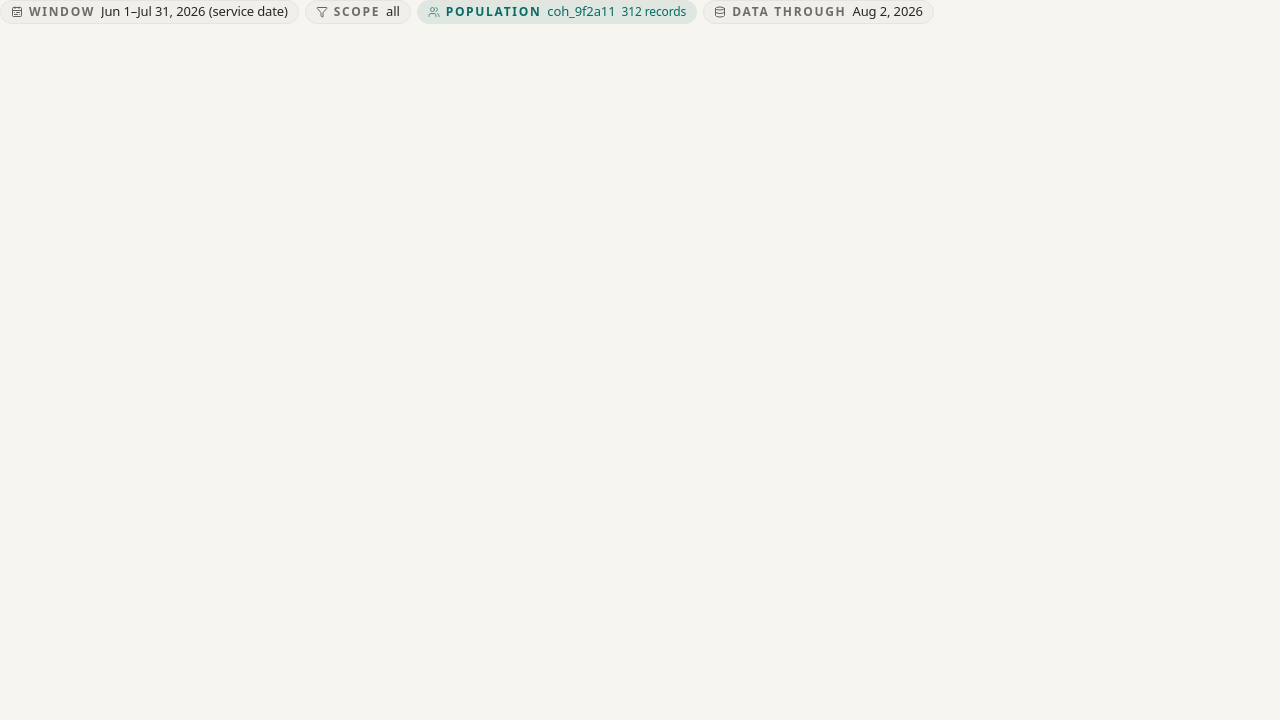
Scenario: ContextHeader — the cohort chip › says what it has when only the header's id and size were published
Check: the text "coh_9f2a11" is shown, box [547,2,615,22]
Check: the text "312 records" is shown, box [621,3,686,21]
Click the button "Population coh_9f2a11 312 records" at (557, 12), box [417,0,697,24]
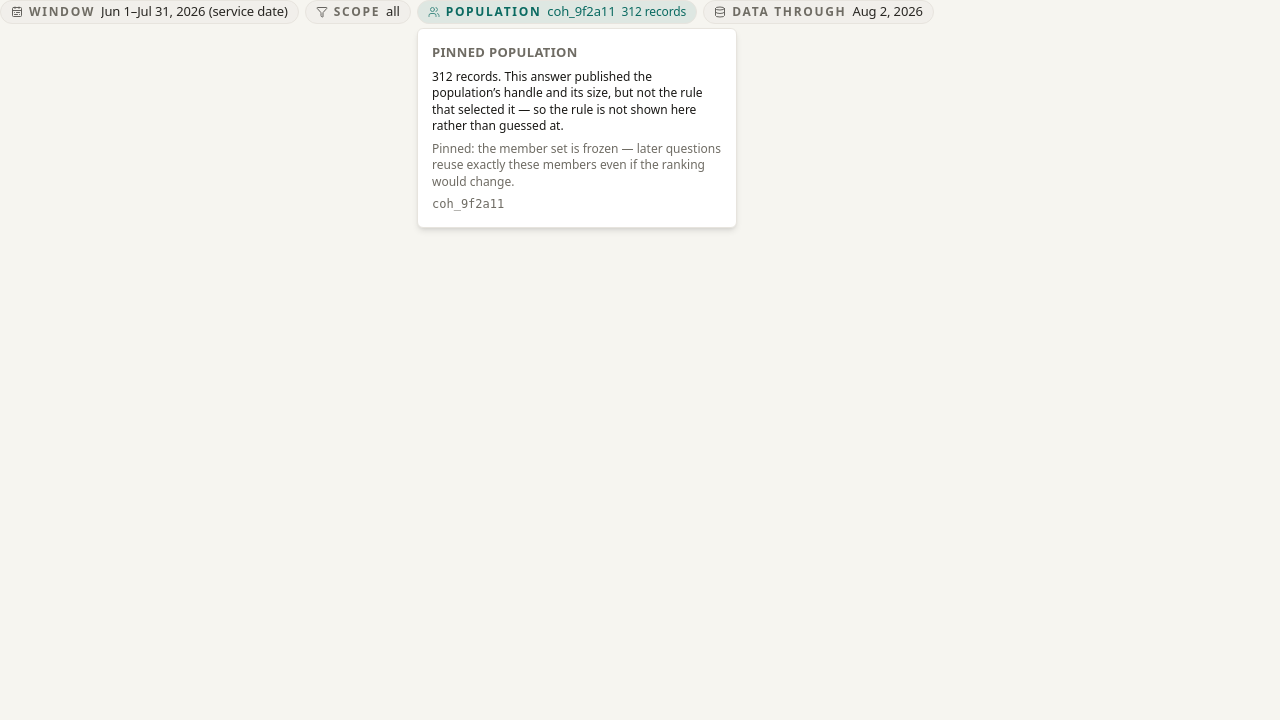
Check: the text "not the rule that selected it" is shown, box [432,68,703,134]
